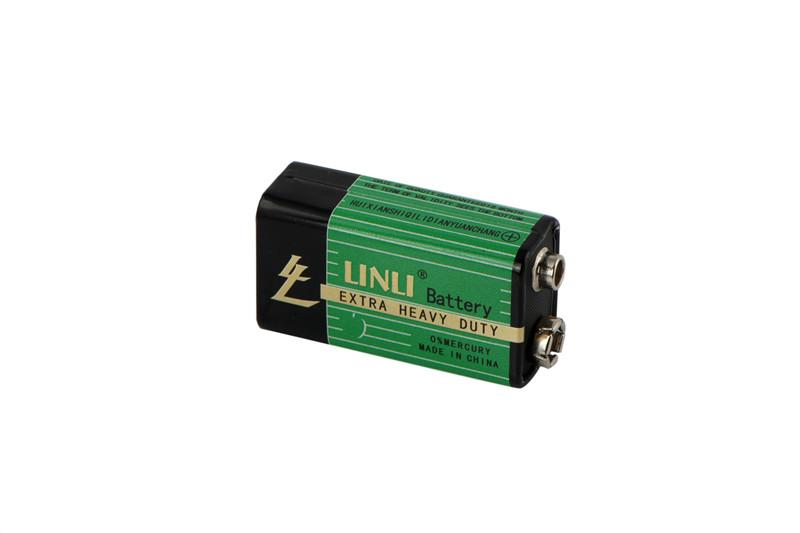9V: (244, 152, 592, 408)
